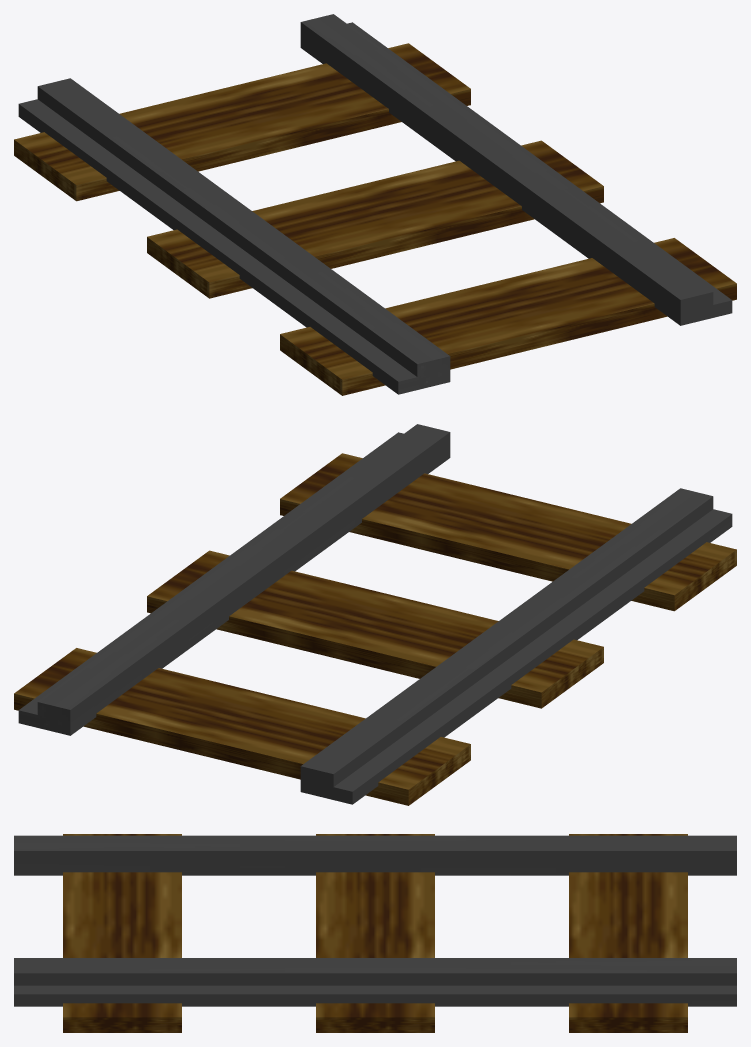
Rendered from MinecartTrackStraight.glb.
The picture shows the model from 3 angles, top to bottom: view 1: azimuth 30°, elevation 25°; view 2: azimuth 150°, elevation 25°; view 3: azimuth 270°, elevation 25°; orthographic projection. The views are drawn at different scales.
Visible parts, largest first — view 1: MinecartTrackStraight_joined; view 2: MinecartTrackStraight_joined; view 3: MinecartTrackStraight_joined.
Boxes of the visible parts, box(x1,y1,x2,y2) form: MinecartTrackStraight_joined: box(14, 14, 736, 395); MinecartTrackStraight_joined: box(14, 424, 736, 805); MinecartTrackStraight_joined: box(14, 834, 736, 1032).
Size of the model in its own units: 0.6 by 0.056 by 1.
Materials: 2 (2 with a texture image).
